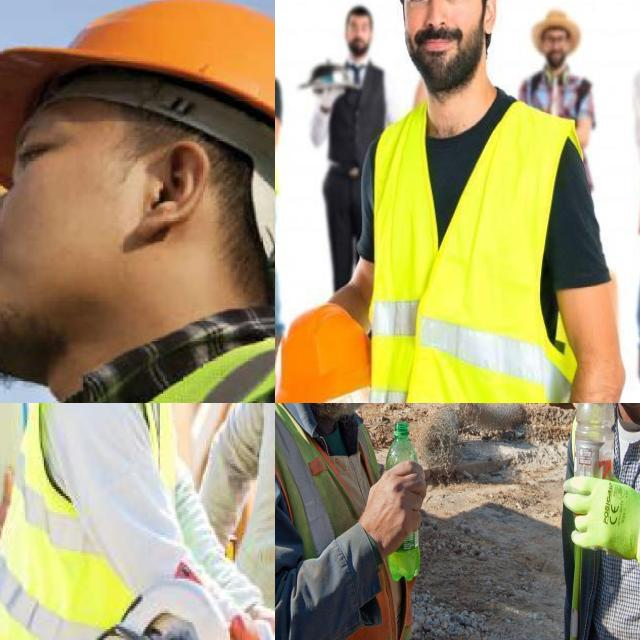No_Ear-Protection: (133, 134, 213, 238)
No_Glasses: (401, 0, 474, 13)
face_nomask: (393, 0, 478, 76), (541, 28, 572, 72), (345, 24, 372, 57)
hand_glove: (569, 462, 640, 574)
hand_noglove: (359, 457, 428, 562)
head_helmet: (275, 293, 380, 403)
head_nohelmet: (344, 4, 378, 26)
person: (327, 0, 590, 403), (28, 403, 231, 640), (275, 403, 418, 640), (300, 0, 391, 309), (517, 0, 614, 239), (567, 403, 640, 640), (622, 1, 640, 383)
vest: (359, 93, 592, 403), (1, 403, 166, 640), (275, 403, 419, 640), (560, 403, 640, 640)
